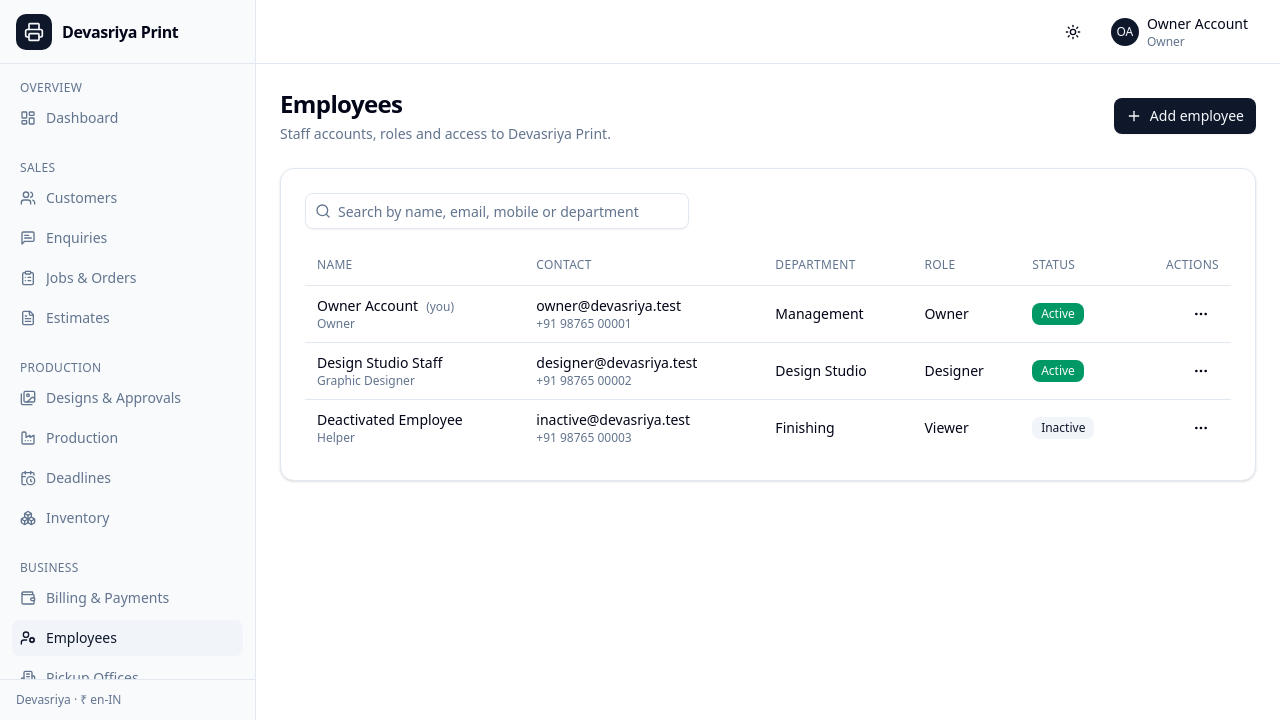
it: employee directory › filters the directory by search term
Check: the text "Design Studio Staff" is shown, box left=317, top=352, right=442, bottom=372
Step 1. Type "inactive@" into the field named "Search employees" → (497, 211), box left=305, top=193, right=689, bottom=229
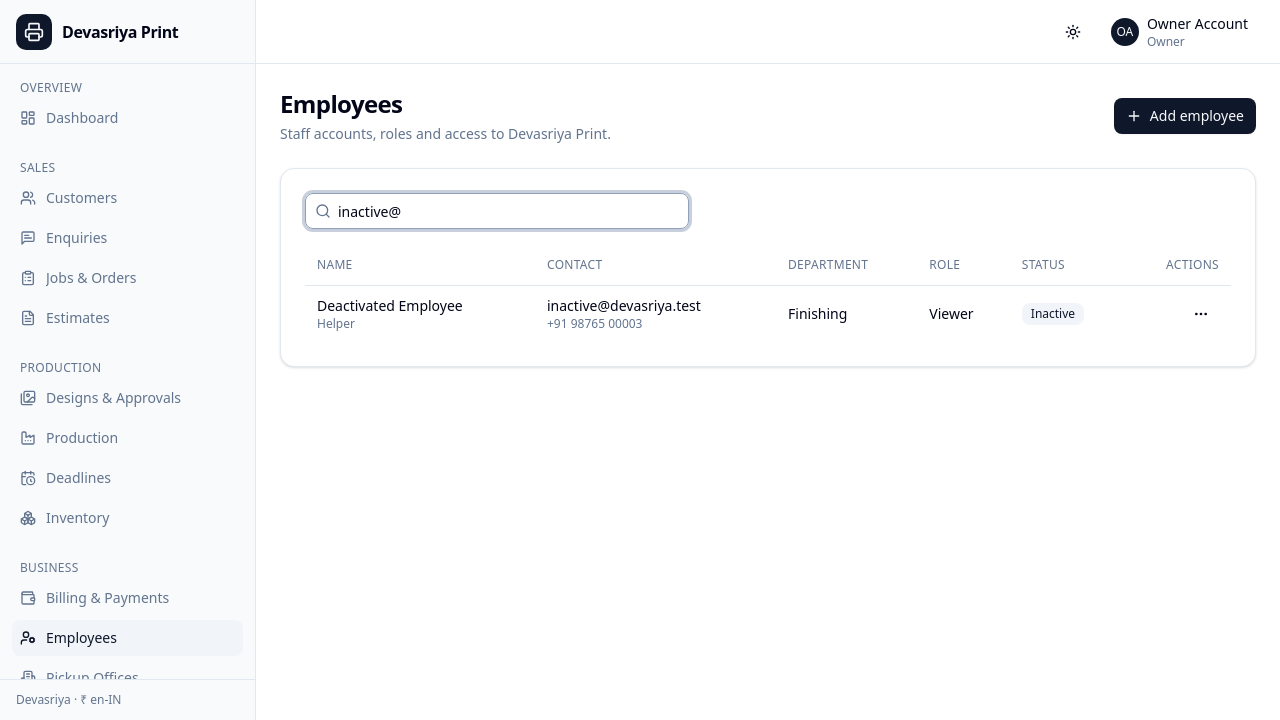
Check: the text "Deactivated Employee" is shown, box left=317, top=296, right=463, bottom=314
Check: the text "Design Studio Staff" is gone
